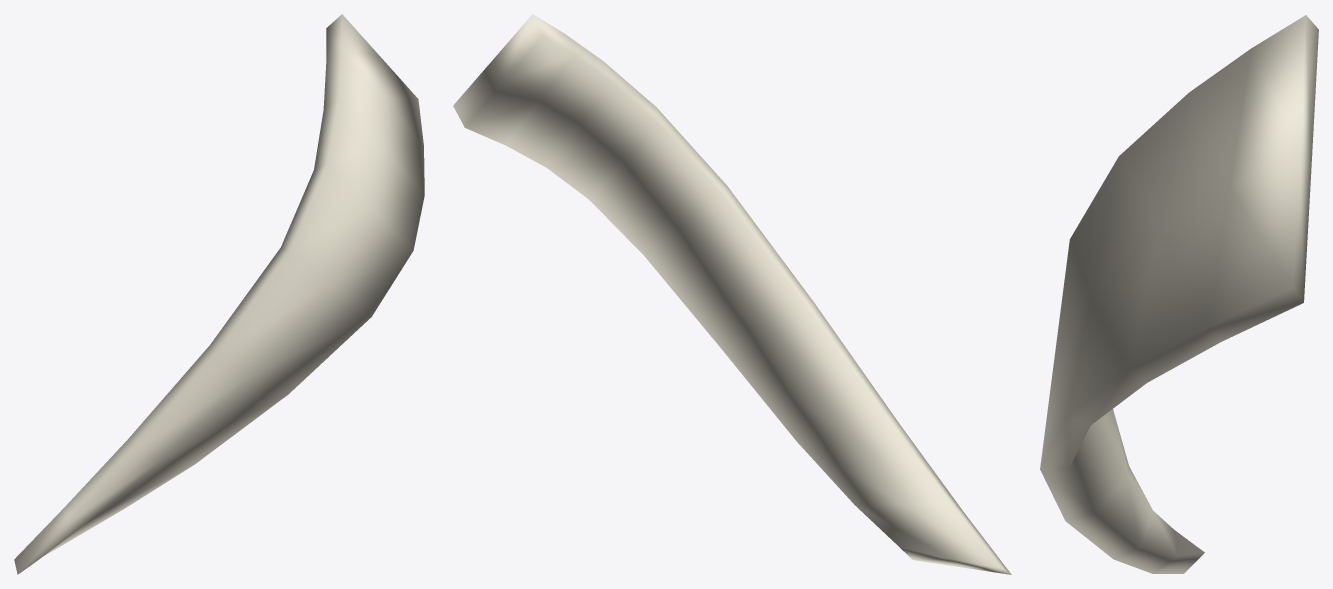
The picture shows the model from 3 angles, left to right: view 1: azimuth 30°, elevation 25°; view 2: azimuth 150°, elevation 25°; view 3: azimuth 270°, elevation 25°; orthographic projection. The views are drawn at different scales.
Parts seen in each view (by area): view 1: ZA_22f070124ef80091; view 2: ZA_22f070124ef80091; view 3: ZA_22f070124ef80091.
Boxes of the visible parts, x1,y1,x2,y2 form: ZA_22f070124ef80091: [14, 14, 424, 574]; ZA_22f070124ef80091: [453, 14, 1011, 574]; ZA_22f070124ef80091: [1040, 15, 1318, 573].
Size of the model in its own units: 0.0227 by 0.0212 by 0.00617.
